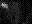person: (1, 2, 8, 9)
